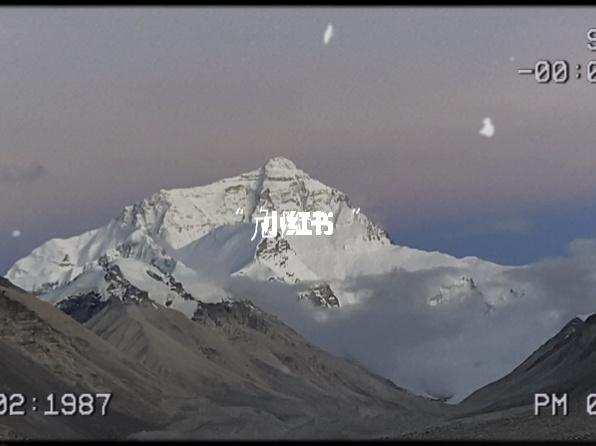mountain: (32, 134, 578, 395)
